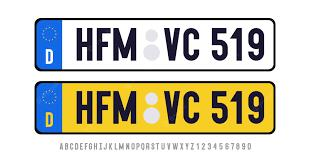1: (228, 28, 245, 62), (229, 90, 245, 125)
5: (208, 90, 230, 124), (208, 27, 230, 61)
9: (246, 27, 265, 62), (246, 91, 265, 125)
C: (182, 91, 203, 125), (181, 28, 202, 61)
F: (94, 27, 112, 61), (95, 90, 112, 124)
H: (75, 27, 94, 63), (75, 90, 94, 125)
M: (112, 90, 137, 124), (112, 27, 137, 61)
V: (162, 90, 182, 124), (162, 27, 182, 61)
